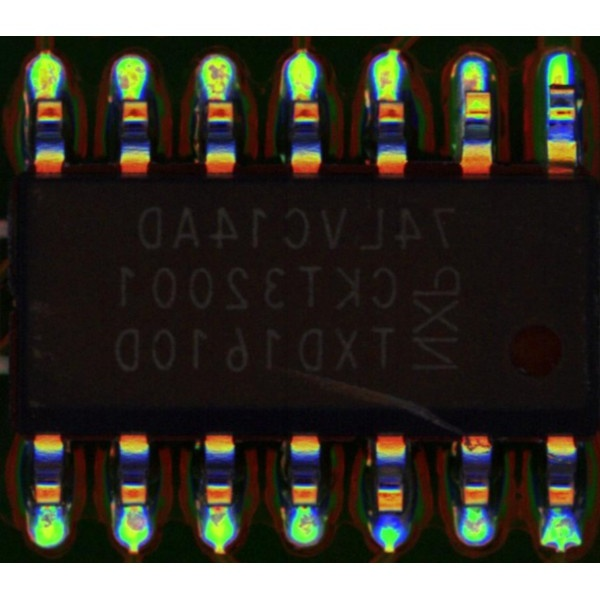Bad_podu: (209, 494, 228, 516), (550, 73, 568, 94), (465, 81, 484, 99)
